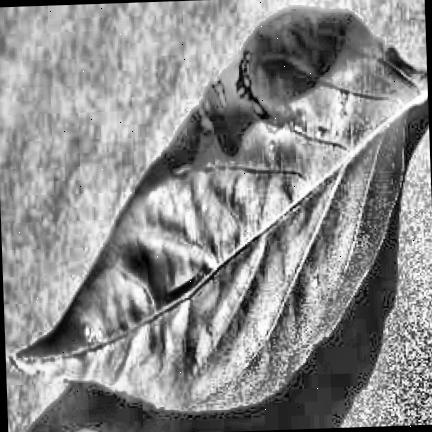leaf: (13, 9, 428, 410)
